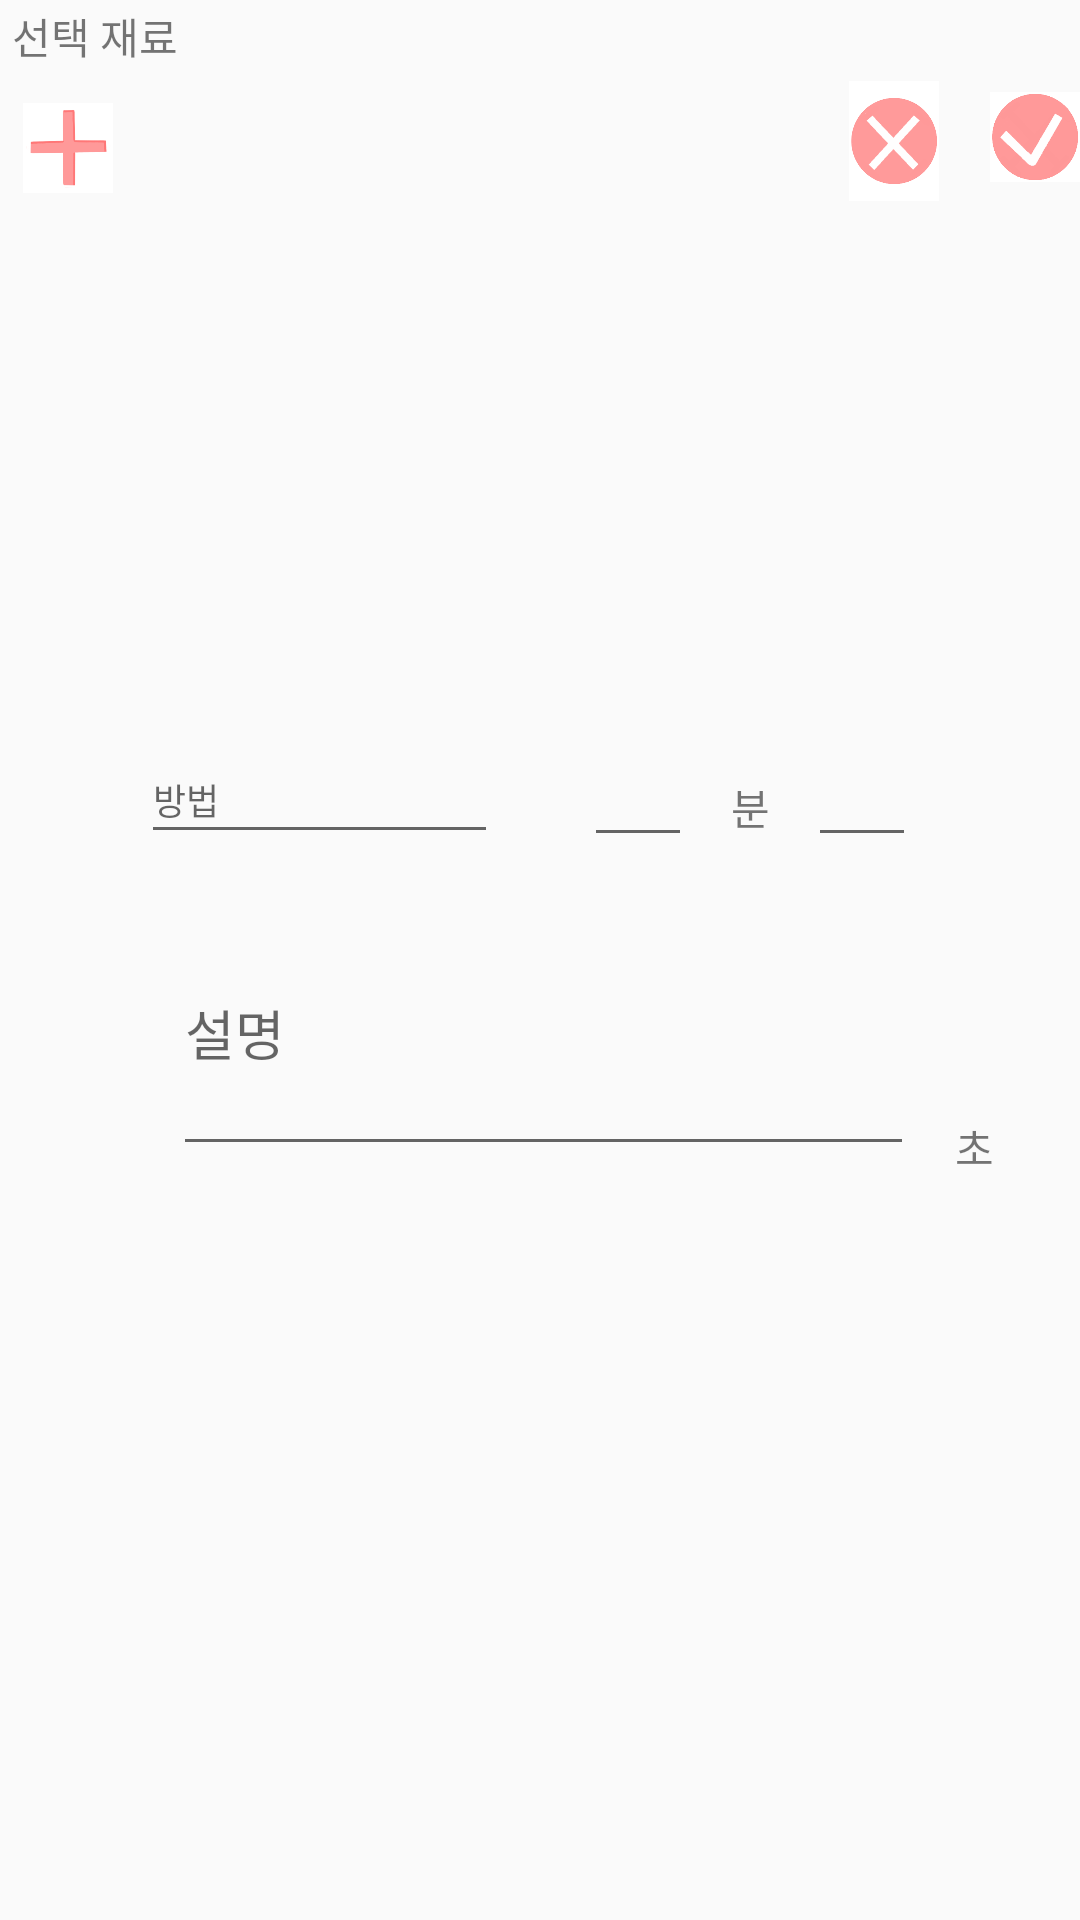

Where icons sit on this 1080 x 1920 app screen, as [left=x1, top=y1, right=x2, bottom=y2]:
add: [left=30, top=110, right=107, bottom=186]
cancel: [left=851, top=98, right=937, bottom=184]
done: [left=992, top=94, right=1078, bottom=180]
